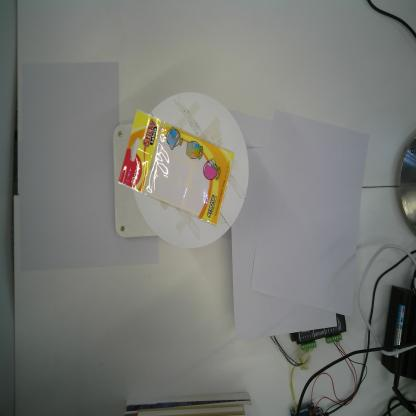Stationery: (116, 107, 236, 228)
